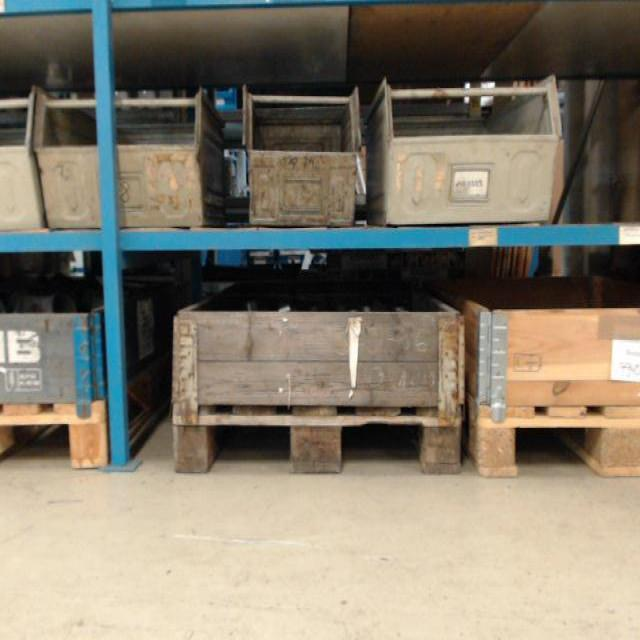pallet: (169, 397, 467, 476), (467, 391, 640, 477), (0, 398, 110, 475)
